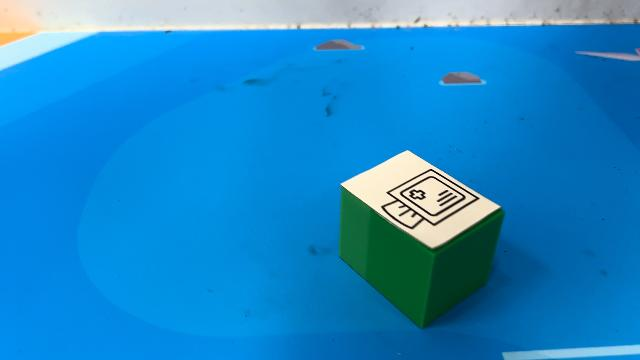napkin: (337, 147, 507, 329)
